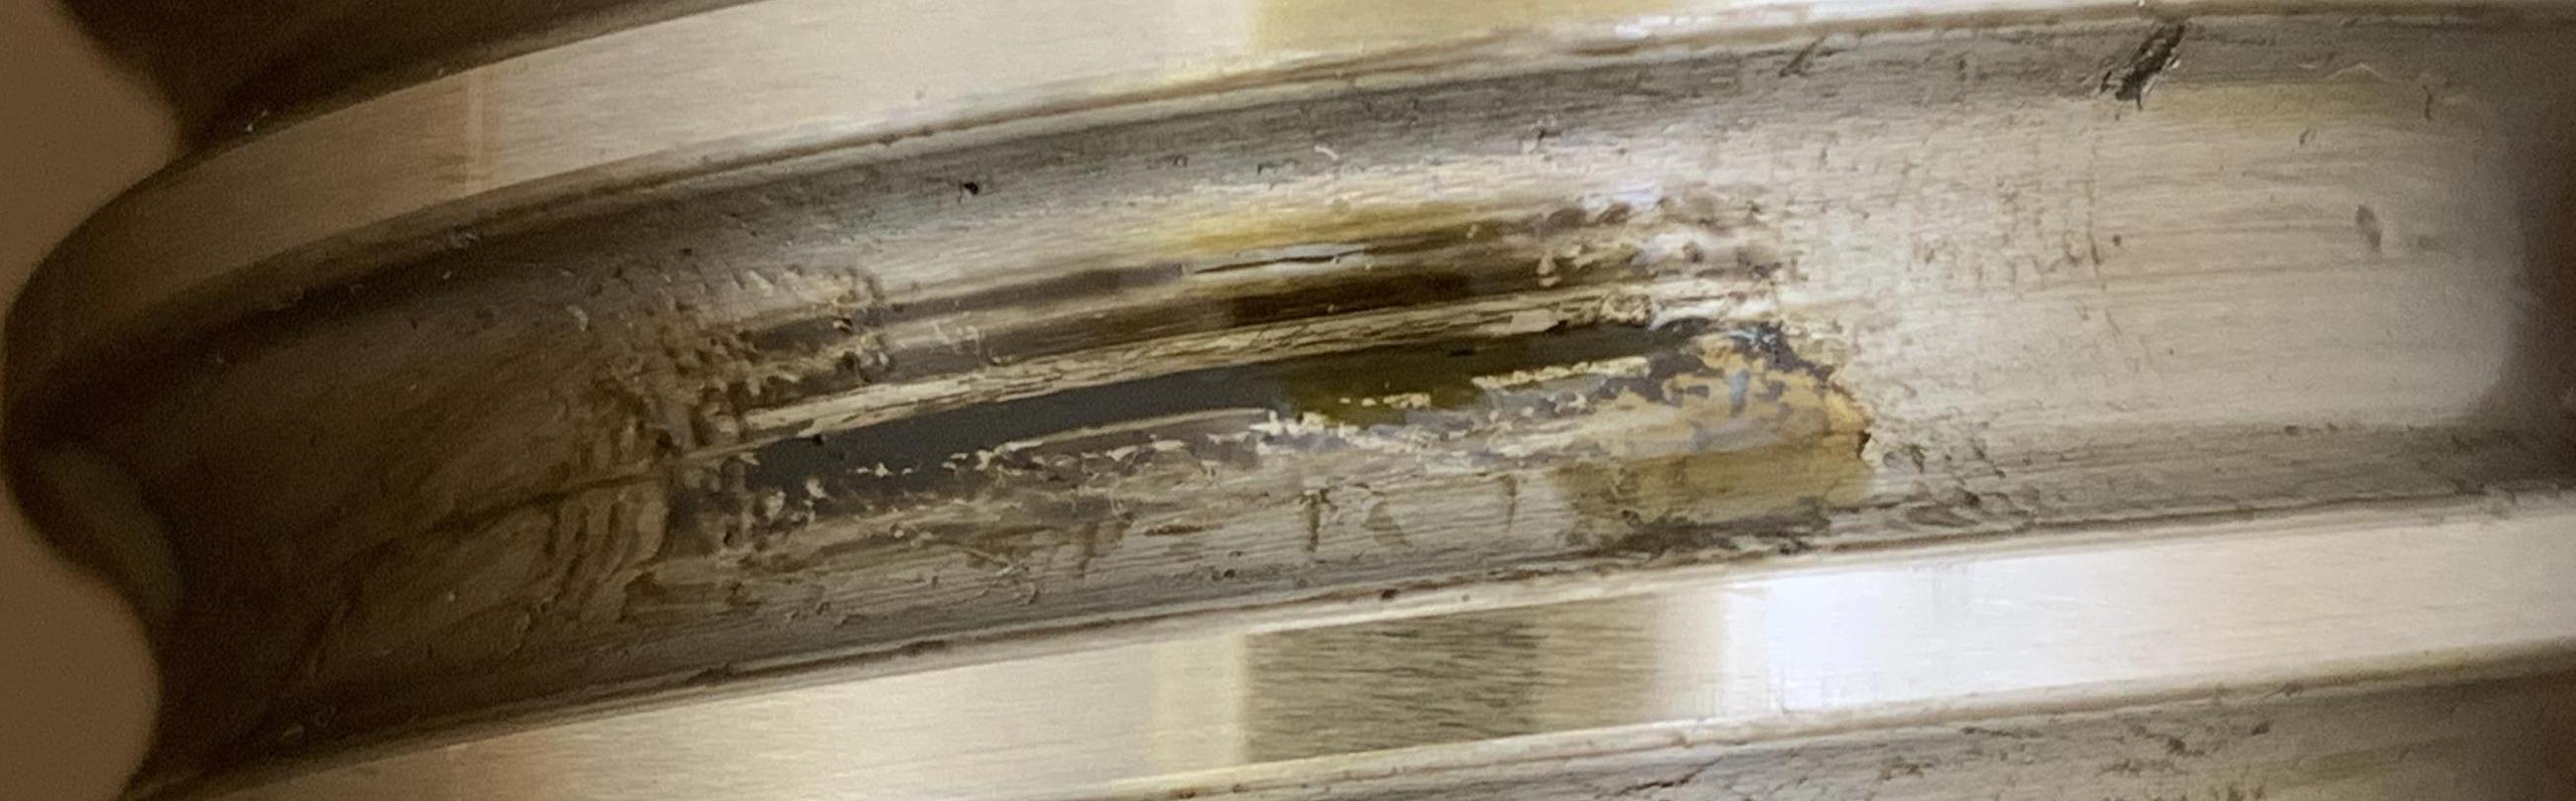pitting: (2096, 23, 2185, 112)
